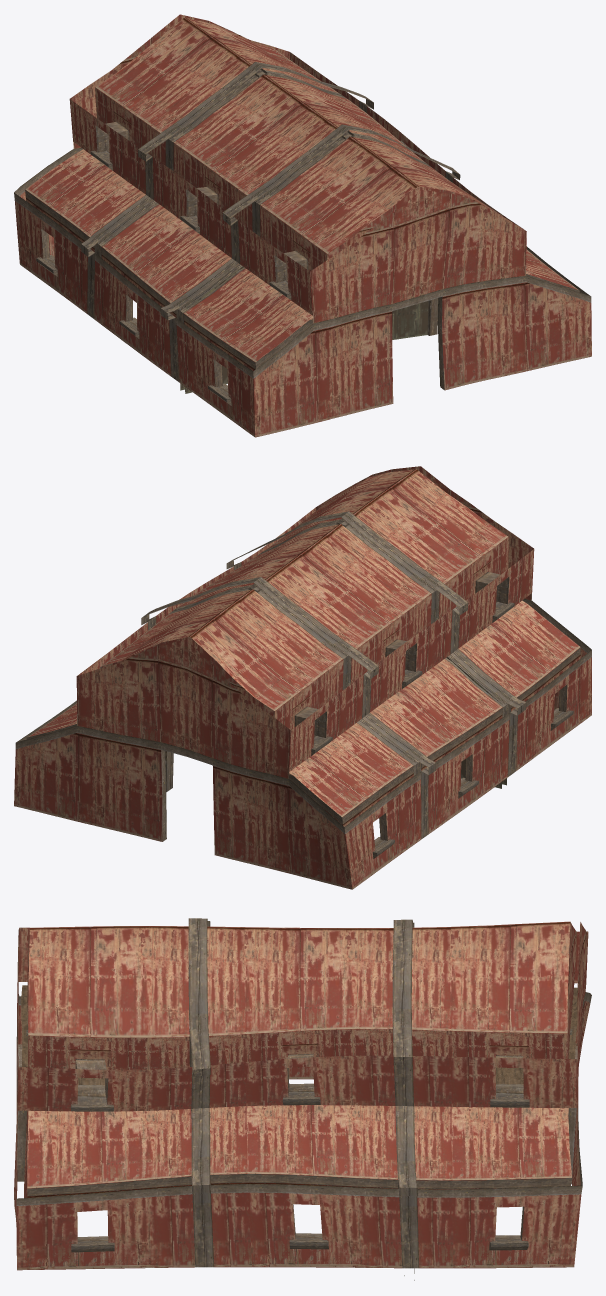
File: Dragonfly_Abduction_Barn.fbx
3 renders of one model, top to bottom at view 1: azimuth 30°, elevation 25°; view 2: azimuth 150°, elevation 25°; view 3: azimuth 270°, elevation 25°, orthographic. The views are drawn at different scales.
Parts seen in each view (by area): view 1: Barn; view 2: Barn; view 3: Barn.
Part boxes in pixels (box(x1,y1,x2,y2)): Barn: box(14, 14, 591, 437); Barn: box(14, 466, 591, 889); Barn: box(14, 918, 591, 1280).
Bounding box in the file's own units: 26.16 × 16.41 × 31.52.
